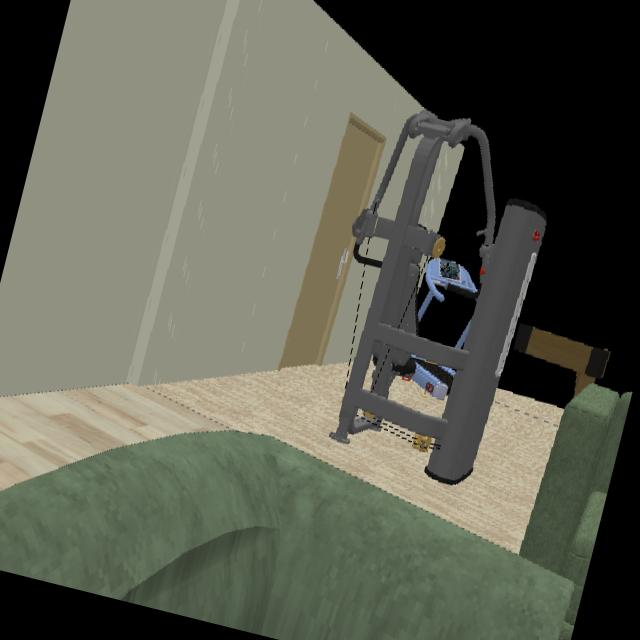sofa: (0, 385, 631, 640)
